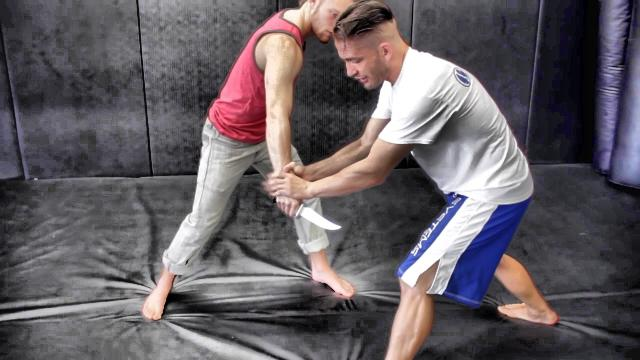knife: (268, 196, 346, 234)
